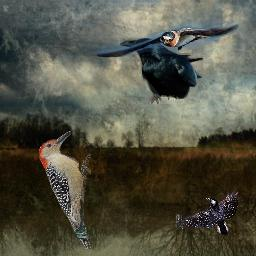Crow: (120, 38, 203, 104)
Swallow: (95, 20, 239, 57)
Woodpecker: (39, 130, 91, 251), (176, 189, 238, 235)
